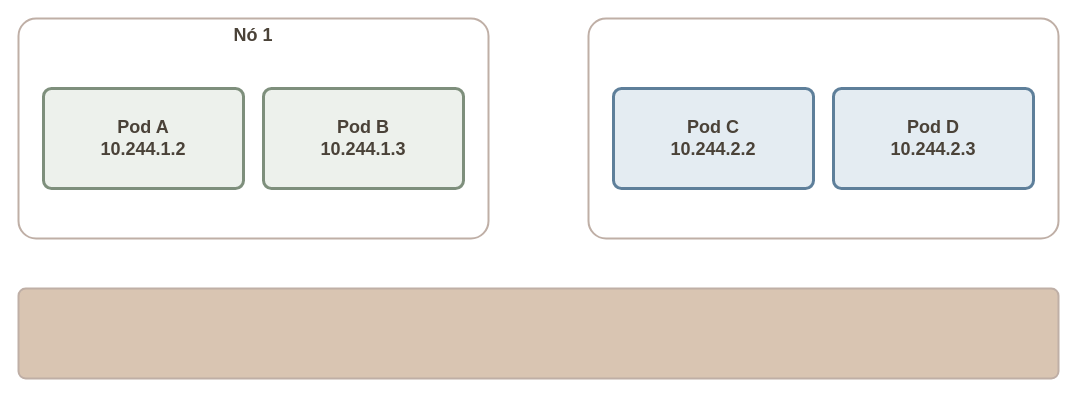
Some shapes in this 1076 by 396 pixel diagram are drawn without their labels. Each missing label, with the box of its shape:
Nó 2: (587, 17, 1059, 239)
Rede plana de Pods (plugin CNI): todos falam com todos, sem NAT: (17, 287, 1059, 379)
